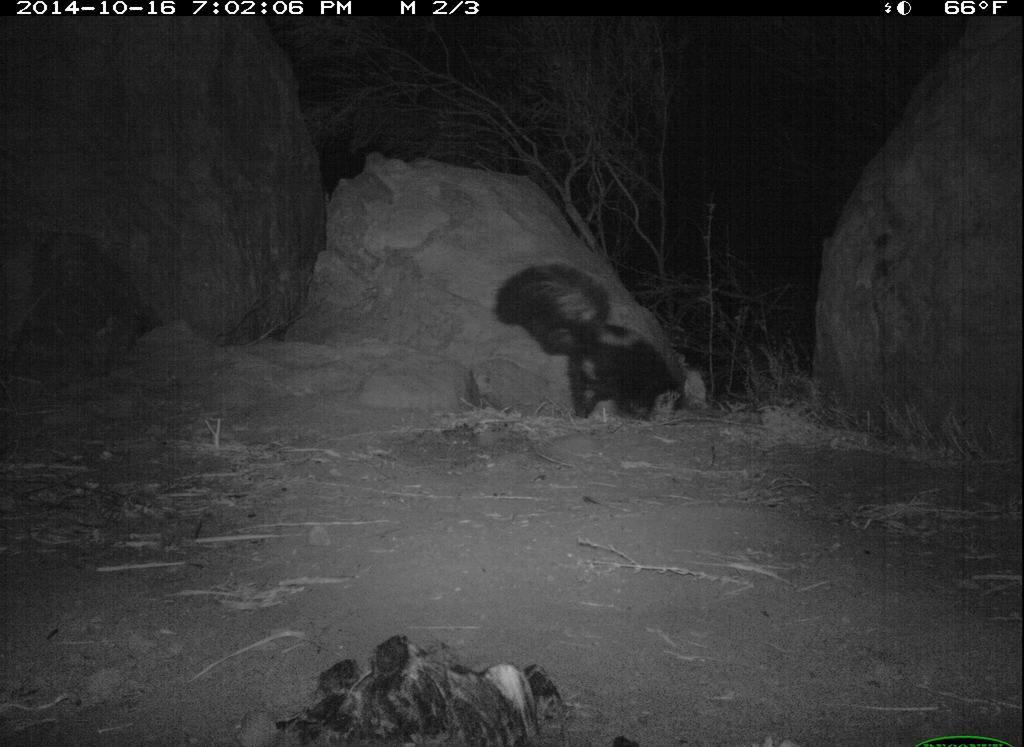skunk: (497, 255, 701, 427)
